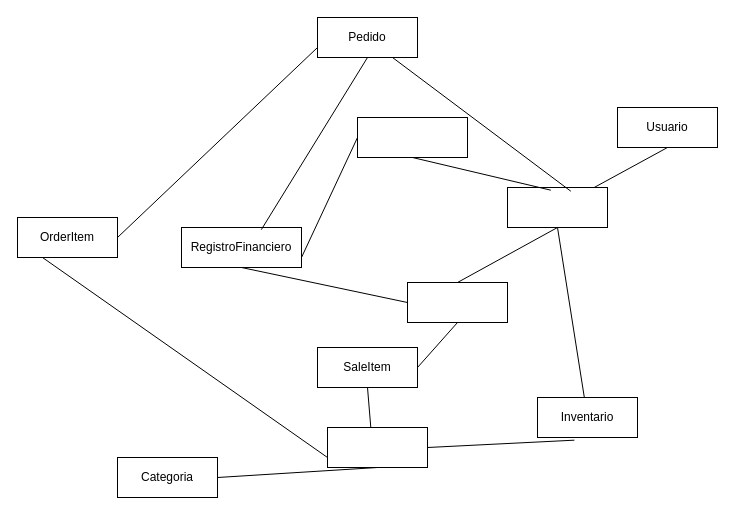
This 735x515 diagram has some shape labels left out. The centre of each missing label's shape, as x and y in pixels:
"Producto" belongs at point (377, 447).
"ReporteFinanciero" belongs at point (412, 137).
"Tienda" belongs at point (557, 207).
"Venta" belongs at point (457, 302).
